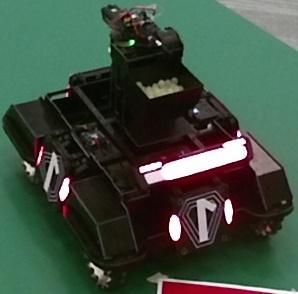armor_1: (168, 198, 235, 242)
back_1: (179, 189, 225, 249)
left_1: (41, 151, 64, 204)
light: (139, 137, 247, 182)
